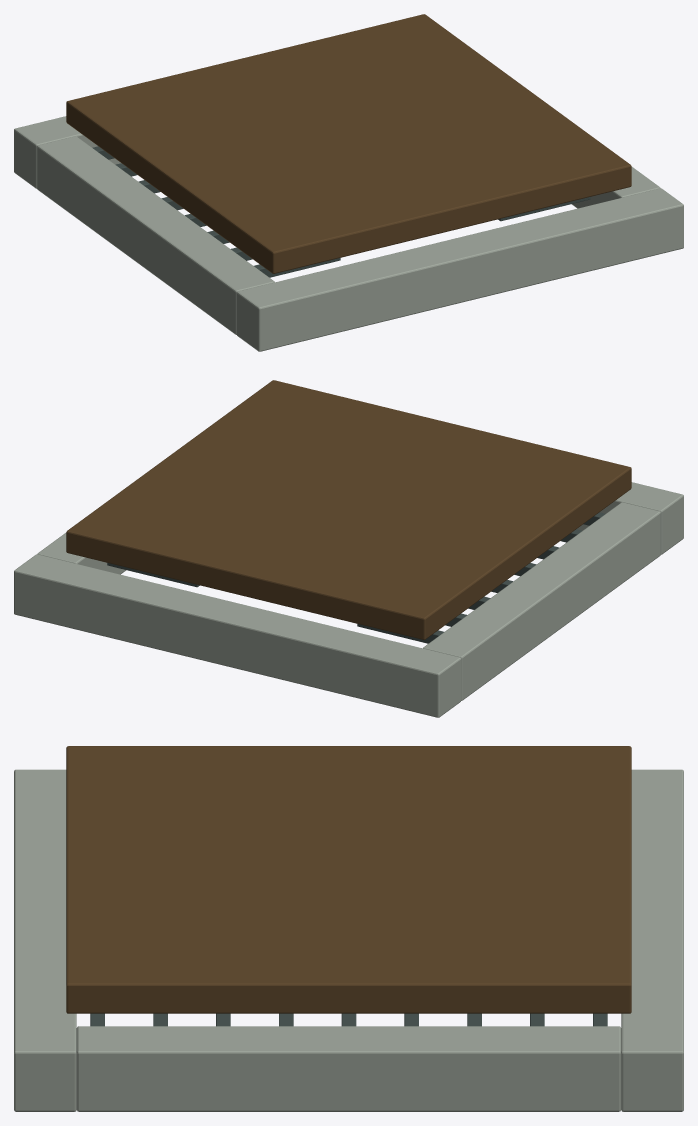
Rendered from source-edit.glb.
3 views of the same model, one above another, from view 1: azimuth 30°, elevation 25°; view 2: azimuth 150°, elevation 25°; view 3: azimuth 270°, elevation 25° (orthographic). The views are drawn at different scales.
Visible parts, largest first — view 1: PIT_Earth, PIT_Kerb, PIT_Kerb.002, PIT_Kerb.001, PIT_Kerb.003; view 2: PIT_Earth, PIT_Kerb.001, PIT_Kerb.002, PIT_Kerb, PIT_Kerb.003; view 3: PIT_Earth, PIT_Kerb.003, PIT_Kerb, PIT_Kerb.001.
Part boxes in pixels (box(x1,y1,x2,y2)): PIT_Earth: box(66, 14, 631, 273); PIT_Kerb: box(236, 188, 683, 351); PIT_Kerb.002: box(37, 136, 274, 334); PIT_Kerb.001: box(14, 116, 121, 188); PIT_Kerb.003: box(571, 167, 660, 208); PIT_Earth: box(66, 380, 631, 639); PIT_Kerb.001: box(14, 554, 461, 717); PIT_Kerb.002: box(423, 502, 660, 700); PIT_Kerb: box(576, 482, 683, 554); PIT_Kerb.003: box(37, 533, 126, 574); PIT_Earth: box(66, 746, 631, 1013); PIT_Kerb.003: box(76, 1026, 621, 1111); PIT_Kerb: box(14, 769, 76, 1111); PIT_Kerb.001: box(621, 769, 683, 1111).
Size of the model in its own units: 1.6 by 0.28 by 1.6.
